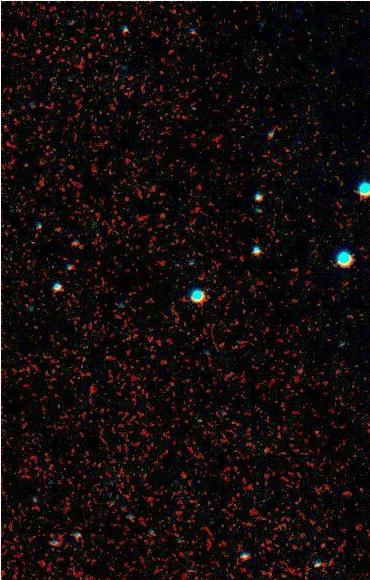star: (250, 434, 280, 464)
